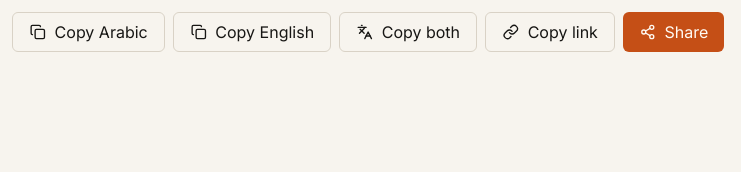
quote sharing controls › uses native share with the quote text and canonical URL when available
The width and height of the screenshot is (741, 172).
Step 1. Click the button "Share" → (674, 32), box [623, 12, 724, 52]
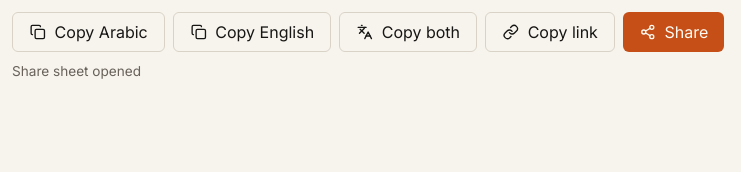
Check: the message reads "Share sheet opened", box [12, 63, 141, 79]
